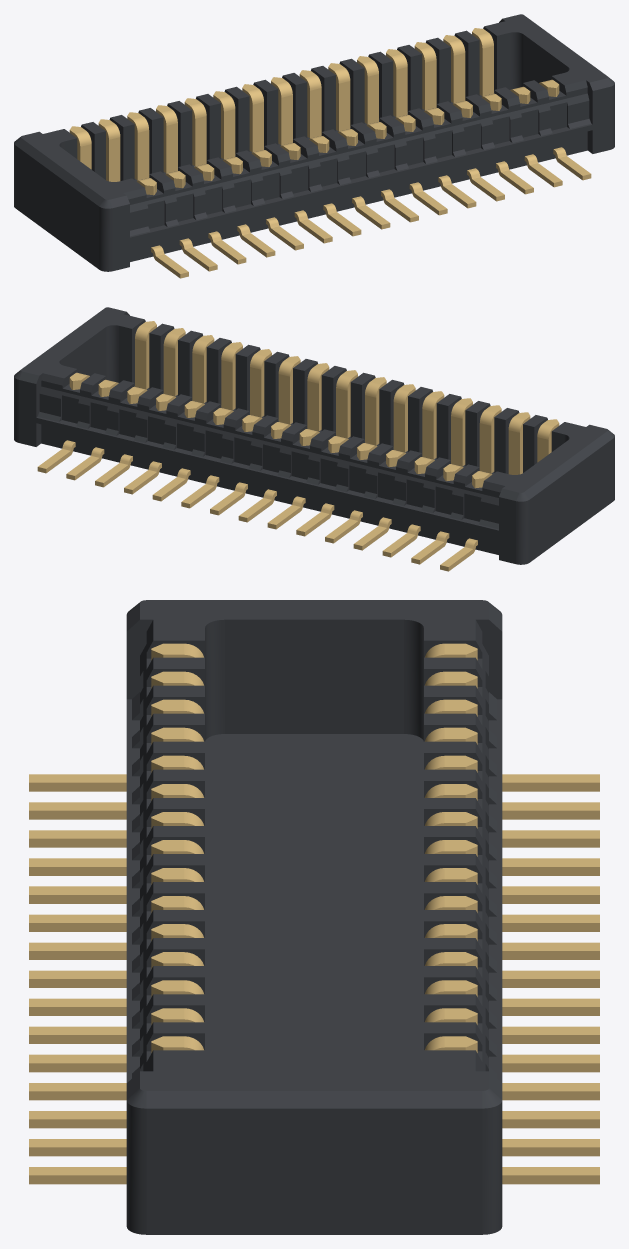
The model's file is kc-molex_slimstack_55560-0301_2x15_p0.50mm_vertical.glb.
3 views of the same model, one above another, from view 1: azimuth 30°, elevation 25°; view 2: azimuth 150°, elevation 25°; view 3: azimuth 270°, elevation 25° (orthographic). The views are drawn at different scales.
Visible parts, largest first — view 1: 0.08333333333333333_0.08333333333333333_0.08333333333333333_, 0.75_0.5_0.25_0.9; view 2: 0.08333333333333333_0.08333333333333333_0.08333333333333333_, 0.75_0.5_0.25_0.9; view 3: 0.08333333333333333_0.08333333333333333_0.08333333333333333_, 0.75_0.5_0.25_0.9.
Part boxes in pixels (x1,y1,x2,y2): 0.08333333333333333_0.08333333333333333_0.08333333333333333_: [14, 14, 614, 271]; 0.75_0.5_0.25_0.9: [69, 28, 591, 278]; 0.08333333333333333_0.08333333333333333_0.08333333333333333_: [14, 307, 614, 564]; 0.75_0.5_0.25_0.9: [37, 321, 559, 571]; 0.08333333333333333_0.08333333333333333_0.08333333333333333_: [126, 600, 502, 1234]; 0.75_0.5_0.25_0.9: [29, 643, 599, 1184].
Bounding box in the file's own units: 0.895 × 0.115 × 0.43.
